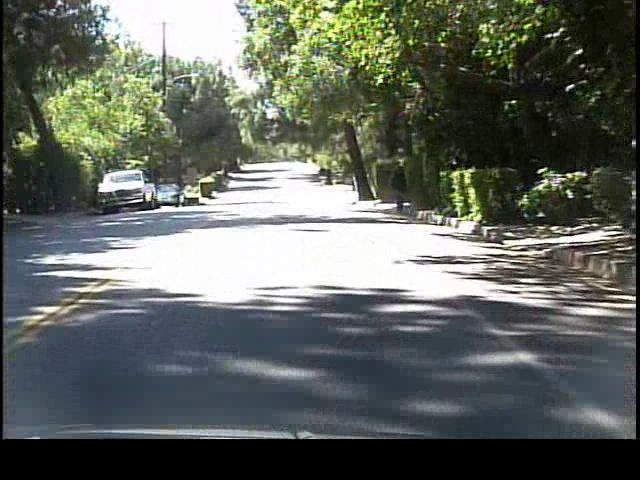person: (387, 157, 409, 216)
